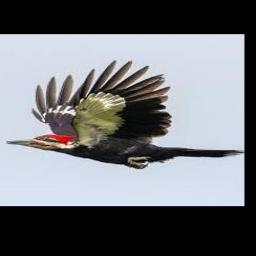Woodpecker: (4, 60, 243, 169)
